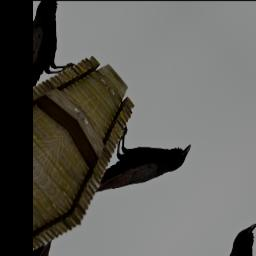Crow: (80, 97, 196, 229)
